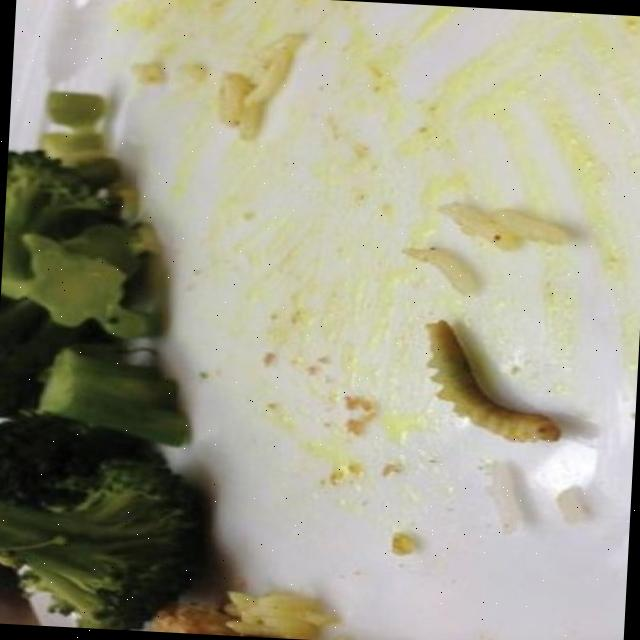worm: (414, 305, 562, 457)
